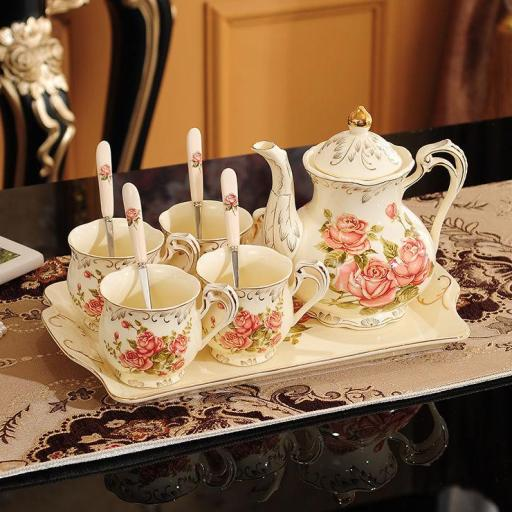cup: (97, 264, 237, 387), (209, 246, 329, 365), (67, 217, 134, 331), (159, 200, 226, 253), (144, 221, 198, 273), (197, 251, 231, 284), (240, 207, 252, 241)
